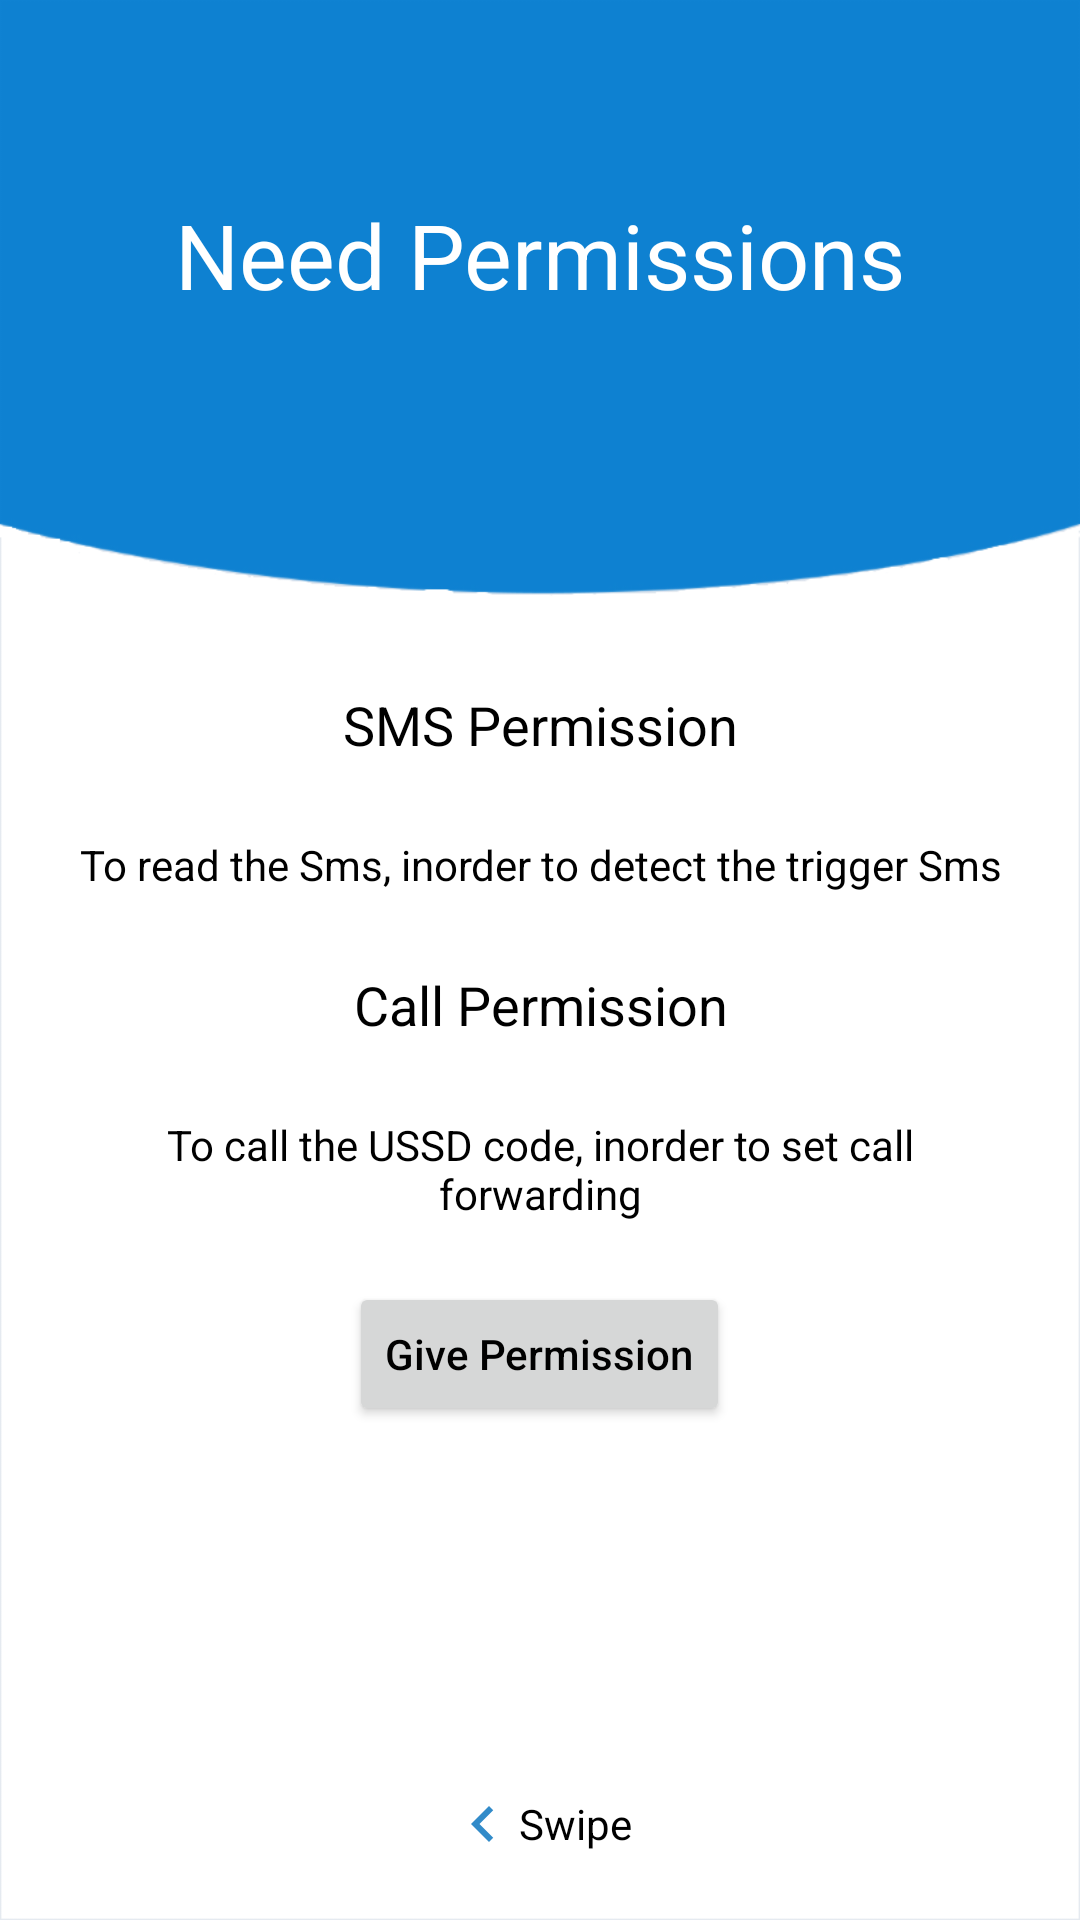

Locate icon controls on the screen. Image size 1080w x 1920h, boxes as (x1, y1, x2, y2).
navigate before: (471, 1806, 493, 1842)
